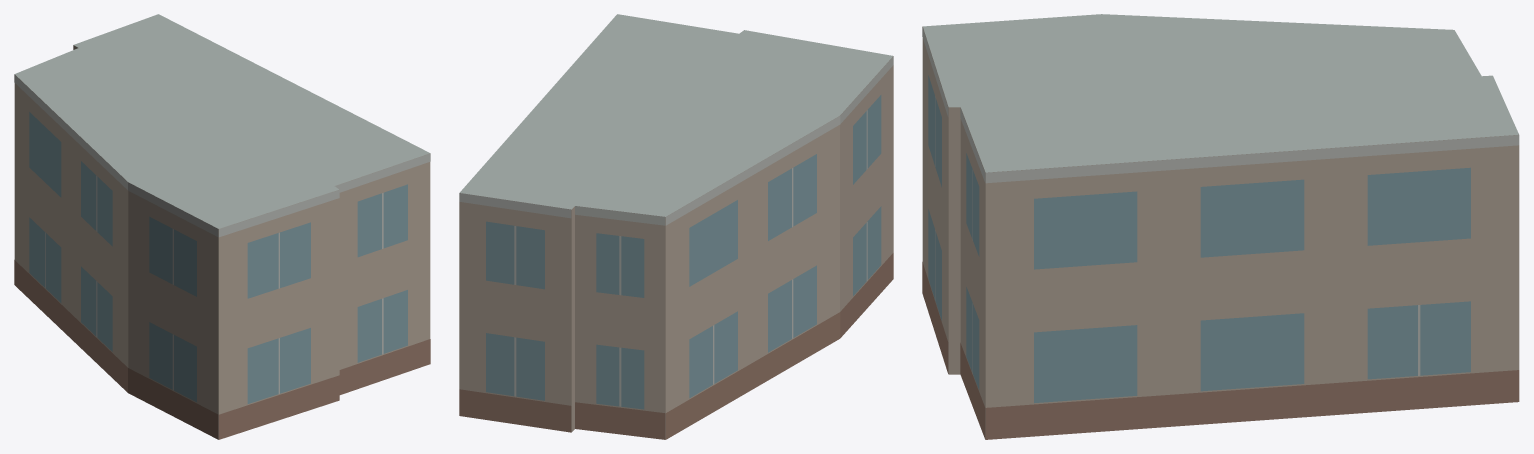
File: survey-upis-33016062.glb
The picture shows the model from 3 angles, left to right: view 1: azimuth 30°, elevation 25°; view 2: azimuth 150°, elevation 25°; view 3: azimuth 270°, elevation 25°; orthographic projection. The views are drawn at different scales.
Visible parts, largest first — view 1: survey-upis-33016062.tmp; view 2: survey-upis-33016062.tmp; view 3: survey-upis-33016062.tmp.
Boxes of the visible parts, x1,y1,x2,y2 form: survey-upis-33016062.tmp: (14, 14, 430, 439); survey-upis-33016062.tmp: (459, 14, 893, 439); survey-upis-33016062.tmp: (922, 14, 1519, 439).
Bounding box in the file's own units: 7.77 × 6.1 × 12.35.
